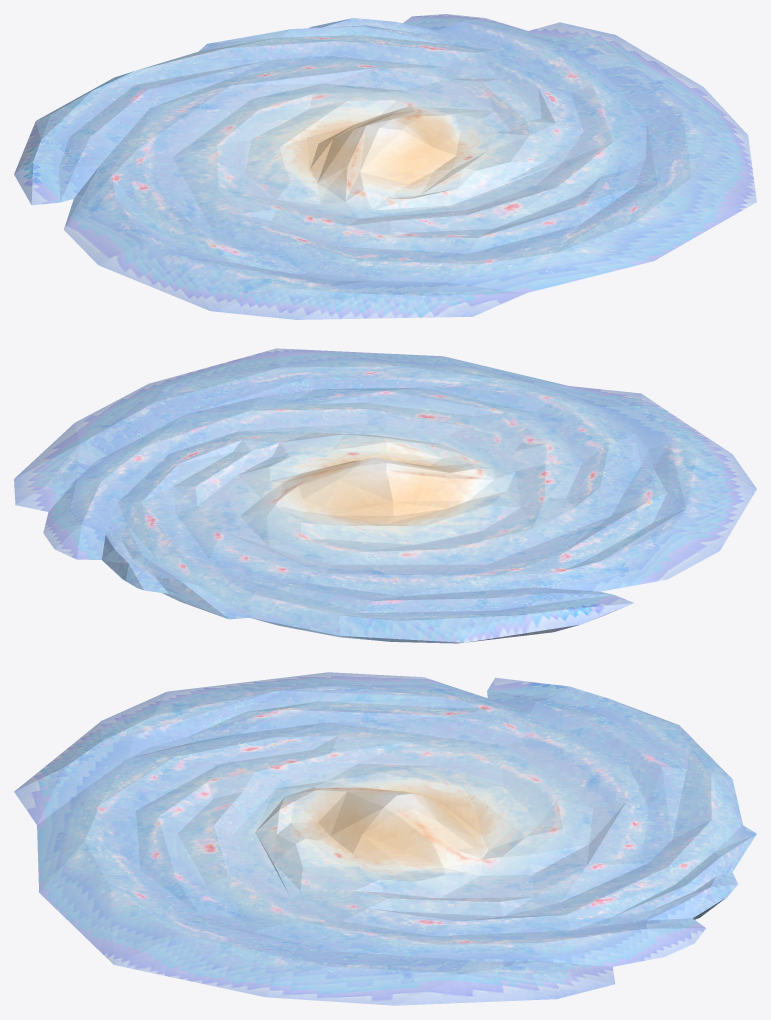
The model's file is Galaxy.obj.
3 views of the same model, one above another, from view 1: azimuth 30°, elevation 25°; view 2: azimuth 150°, elevation 25°; view 3: azimuth 270°, elevation 25° (orthographic). The views are drawn at different scales.
Visible parts, largest first — view 1: MilkyWay; view 2: MilkyWay; view 3: MilkyWay.
Part boxes in pixels (left/top/right/bottom): MilkyWay: left=14, top=14, right=756, bottom=319; MilkyWay: left=14, top=348, right=756, bottom=643; MilkyWay: left=14, top=672, right=756, bottom=1005.
Size of the model in its own units: 9.79 by 1.11 by 9.22.
1 material, 1 textured.
